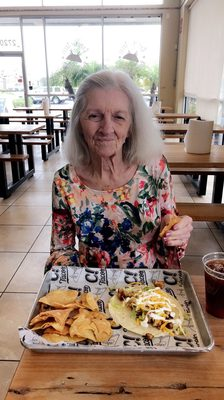pizza: (200, 252, 224, 318), (183, 119, 214, 154)
